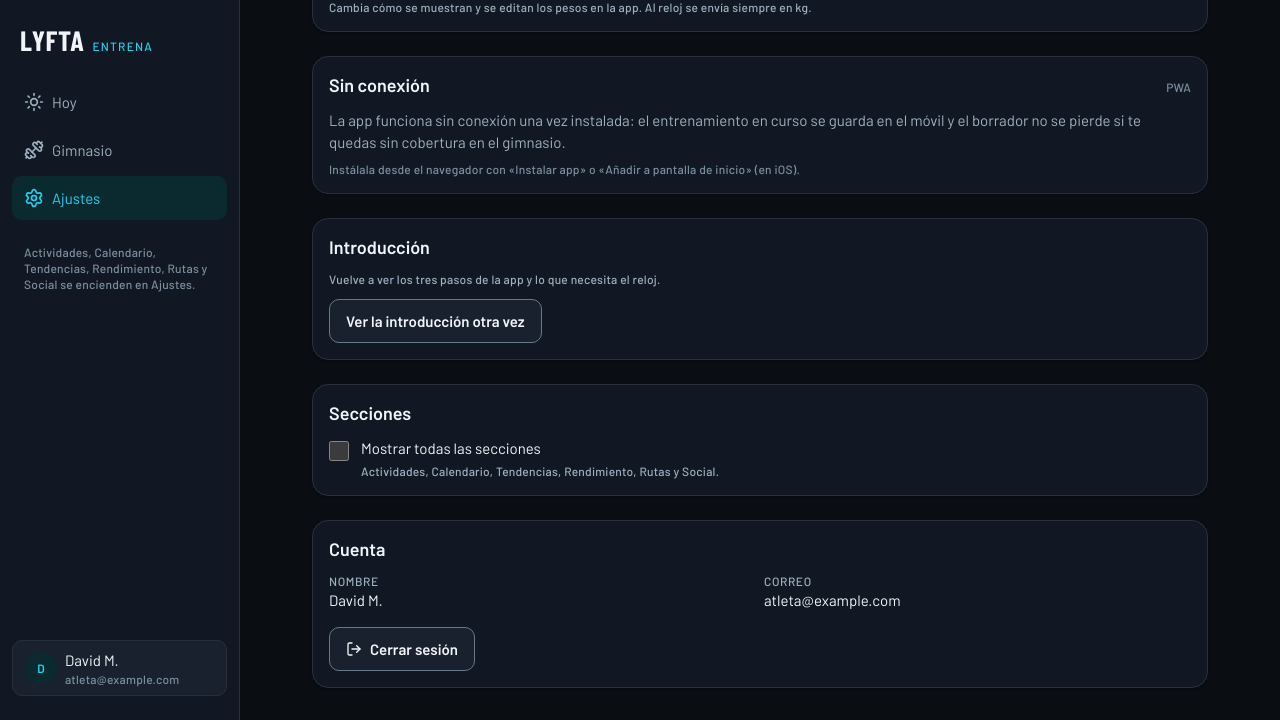
moverse por la app › abre y cierra una sesión guardada en lyfta.token
The width and height of the screenshot is (1280, 720).
(page scrolled)
Click the button "Cerrar sesión": [402, 649] box [329,627,475,671]
(page scrolled)
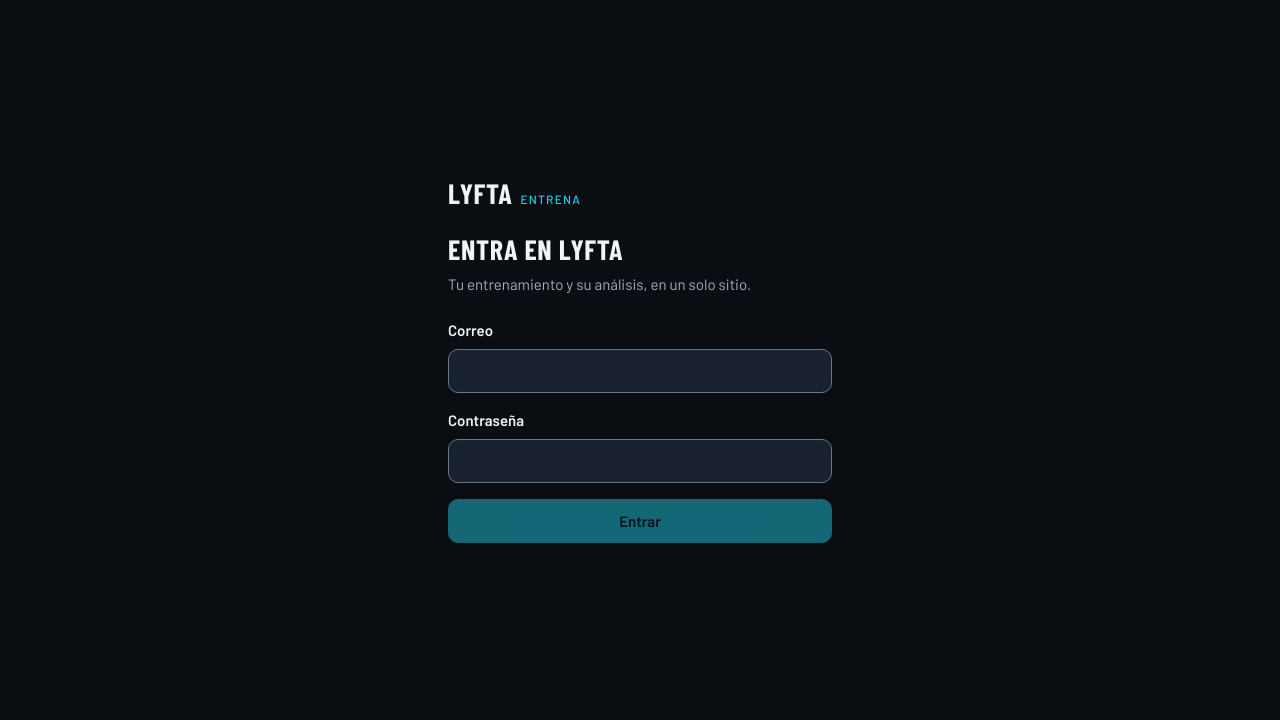
Now the heading "Entra en Lyfta" is shown, box [448,232,623,266]
